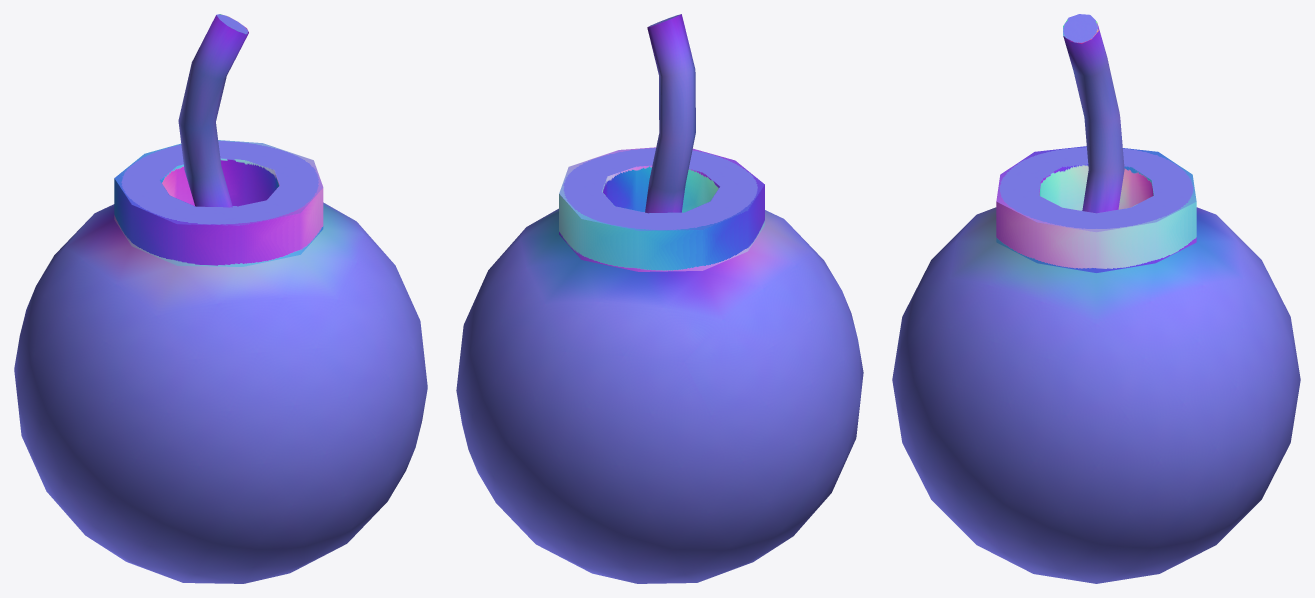
File: models.obj
3 renders of one model, left to right at view 1: azimuth 30°, elevation 25°; view 2: azimuth 150°, elevation 25°; view 3: azimuth 270°, elevation 25°, orthographic.
Visible parts, largest first — view 1: Bomb_Icosphere; view 2: Bomb_Icosphere; view 3: Bomb_Icosphere.
Part boxes in pixels (x1,y1,x2,y2): Bomb_Icosphere: (14,14,427,583); Bomb_Icosphere: (456,14,863,583); Bomb_Icosphere: (892,14,1300,583).
Size of the model in its own units: 0.5099 by 0.7524 by 0.5099.
